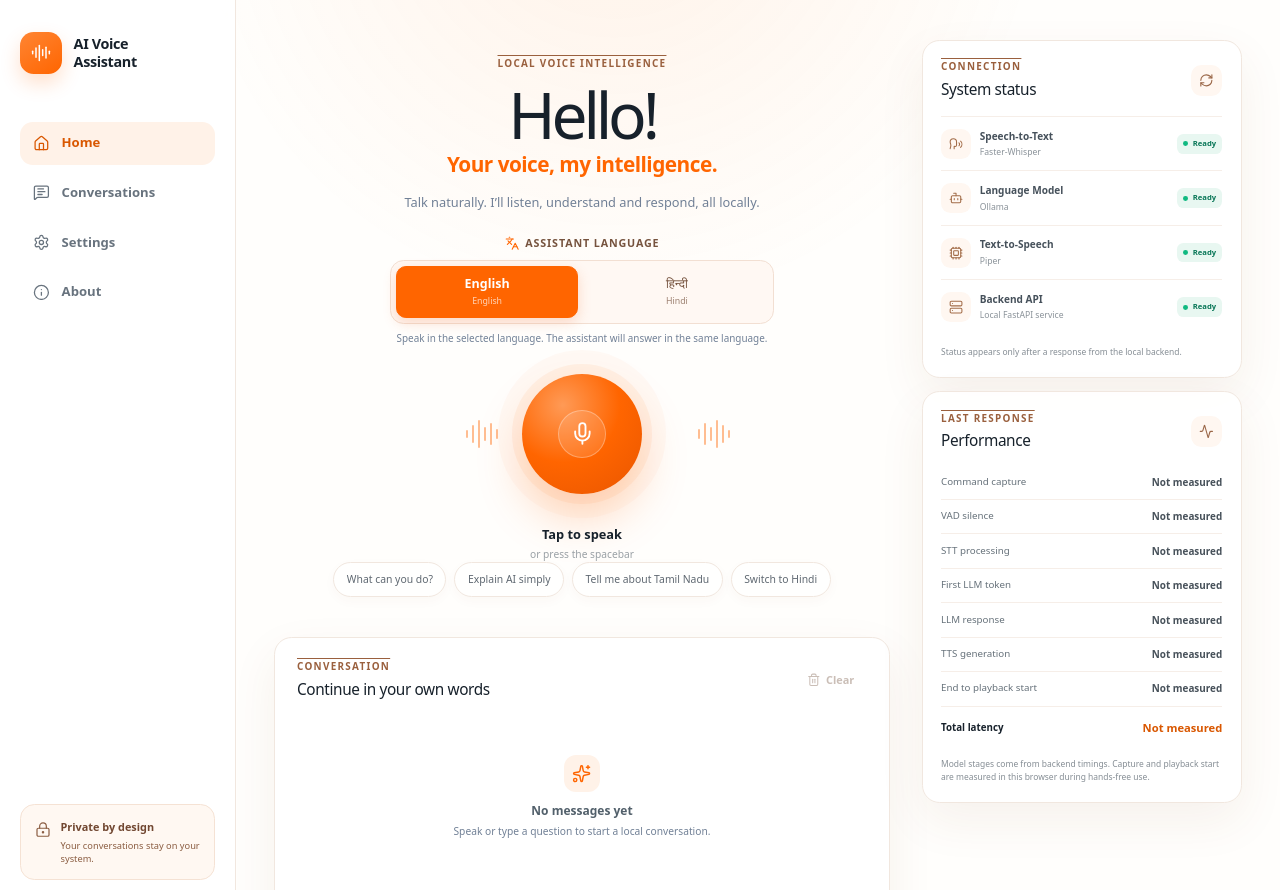
Test: AI Voice Assistant › records audio, uploads it, and renders the returned transcript and audio control
Click the button named "Start listening" at (582, 434), box x1=522 y1=374 x2=642 y2=494
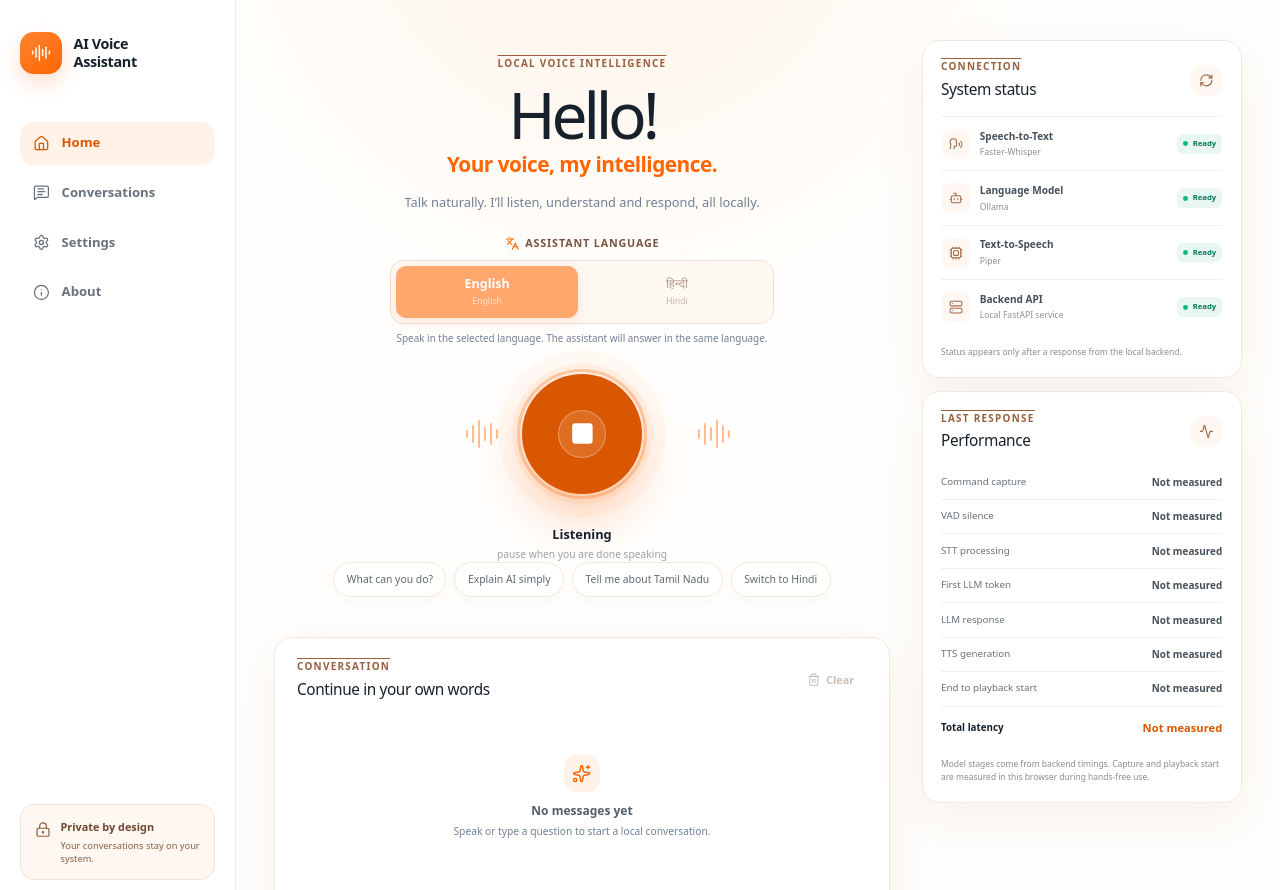
Expected: the text "Listening" is shown, x1=552 y1=525 x2=612 y2=543
Click the button named "Stop listening" at (582, 434), box x1=522 y1=374 x2=642 y2=494
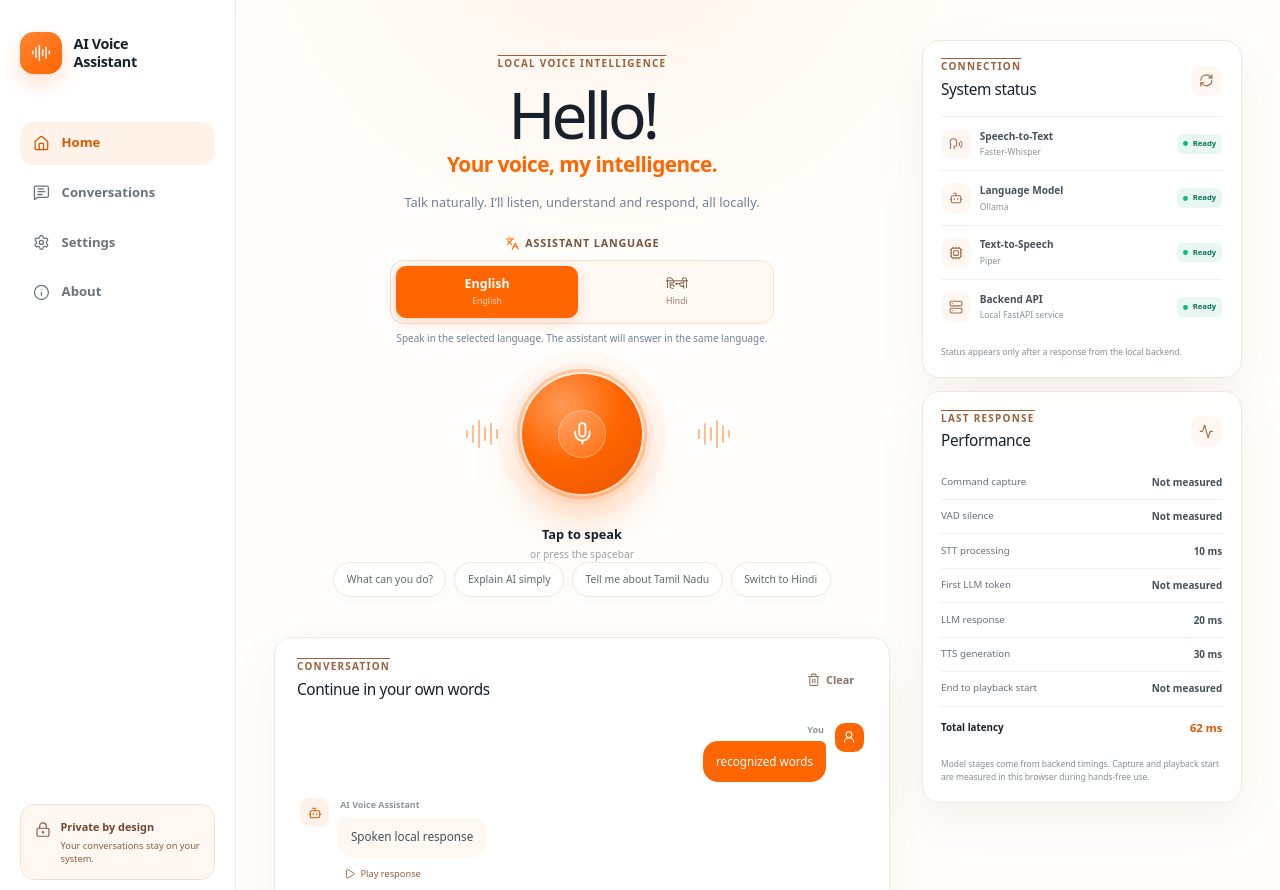
Expected: the text "recognized words" is shown, x1=703 y1=741 x2=826 y2=782
Expected: the text "Spoken local response" is shown, x1=338 y1=816 x2=486 y2=858
Expected: the button "Play response" is shown
Click the button "Play response" at (382, 874), box x1=338 y1=863 x2=427 y2=885
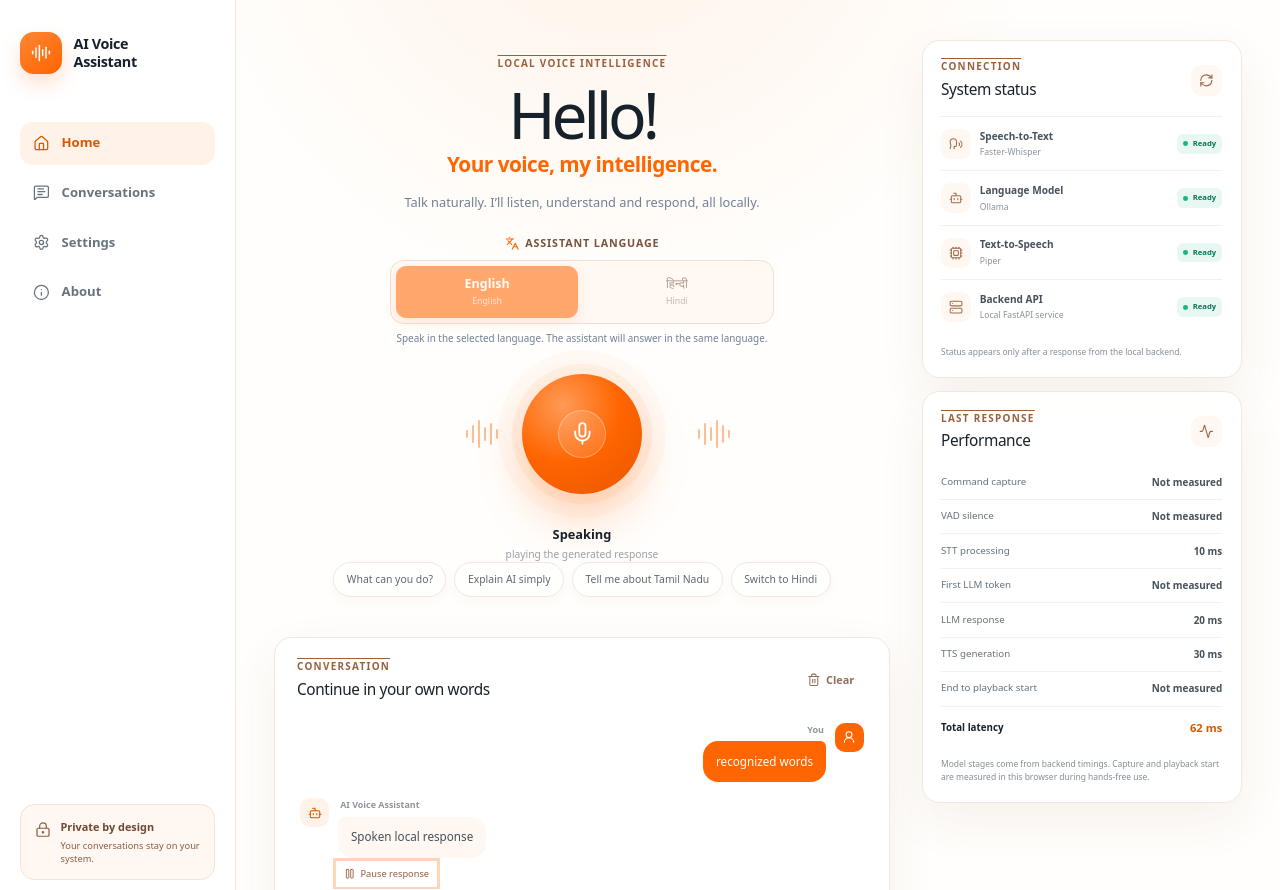
Expected: the text "Speaking" is shown, x1=553 y1=525 x2=611 y2=543
Click the button "Pause response" at (387, 874), box x1=338 y1=863 x2=436 y2=885
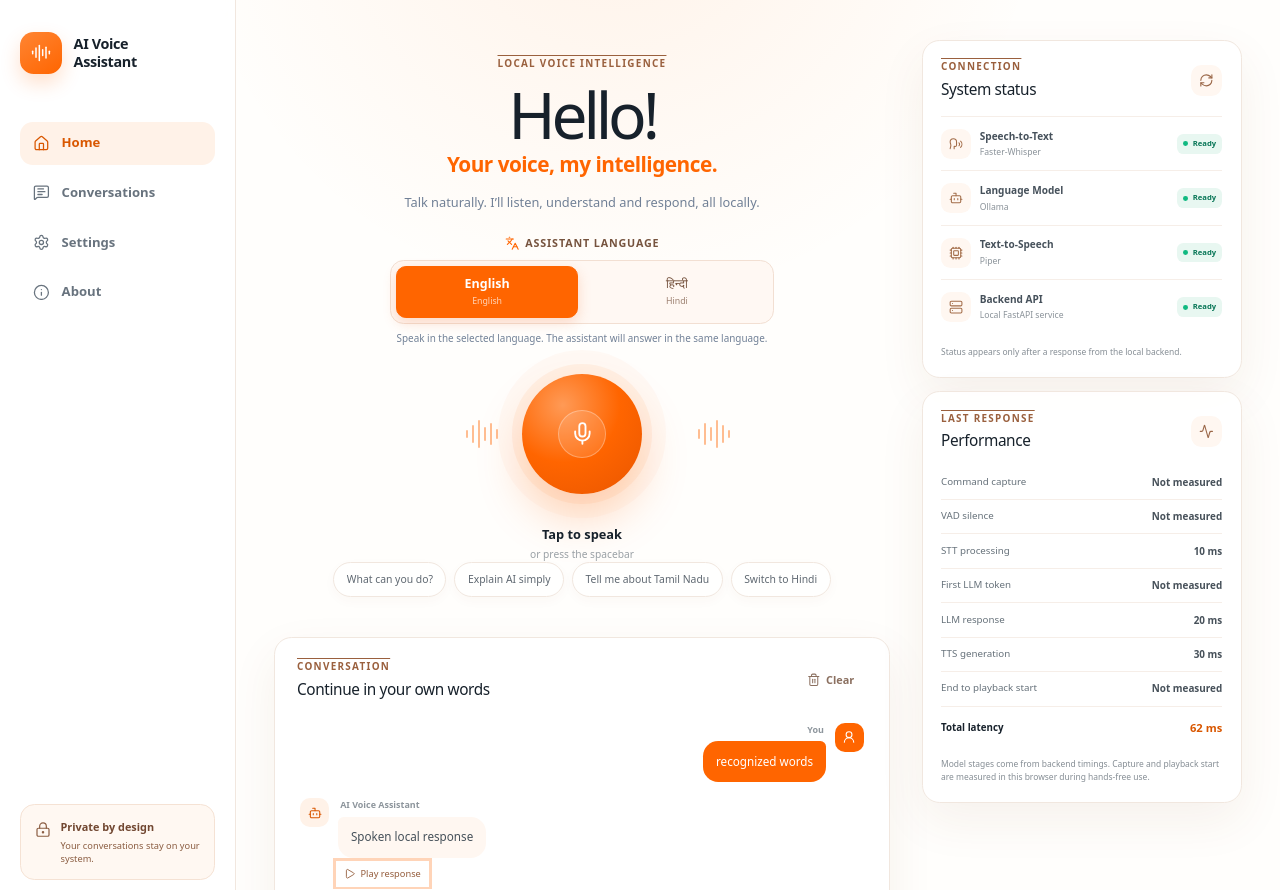
Expected: the text "Tap to speak" is shown, x1=542 y1=525 x2=622 y2=543
